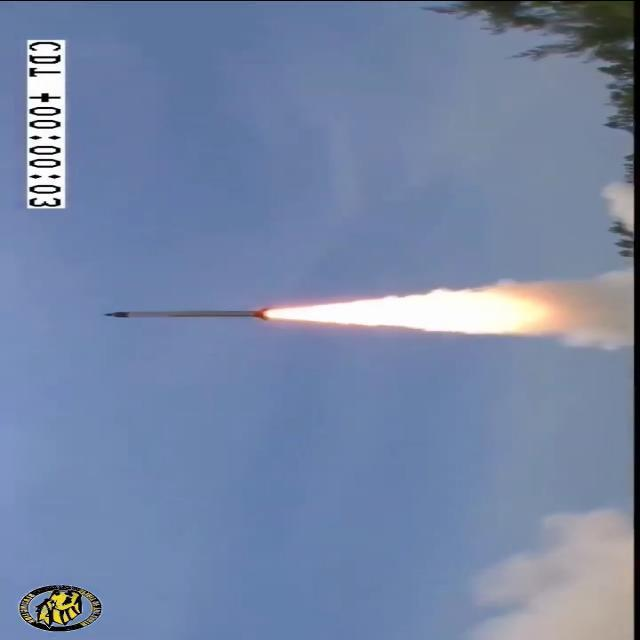missile: (106, 303, 272, 326)
